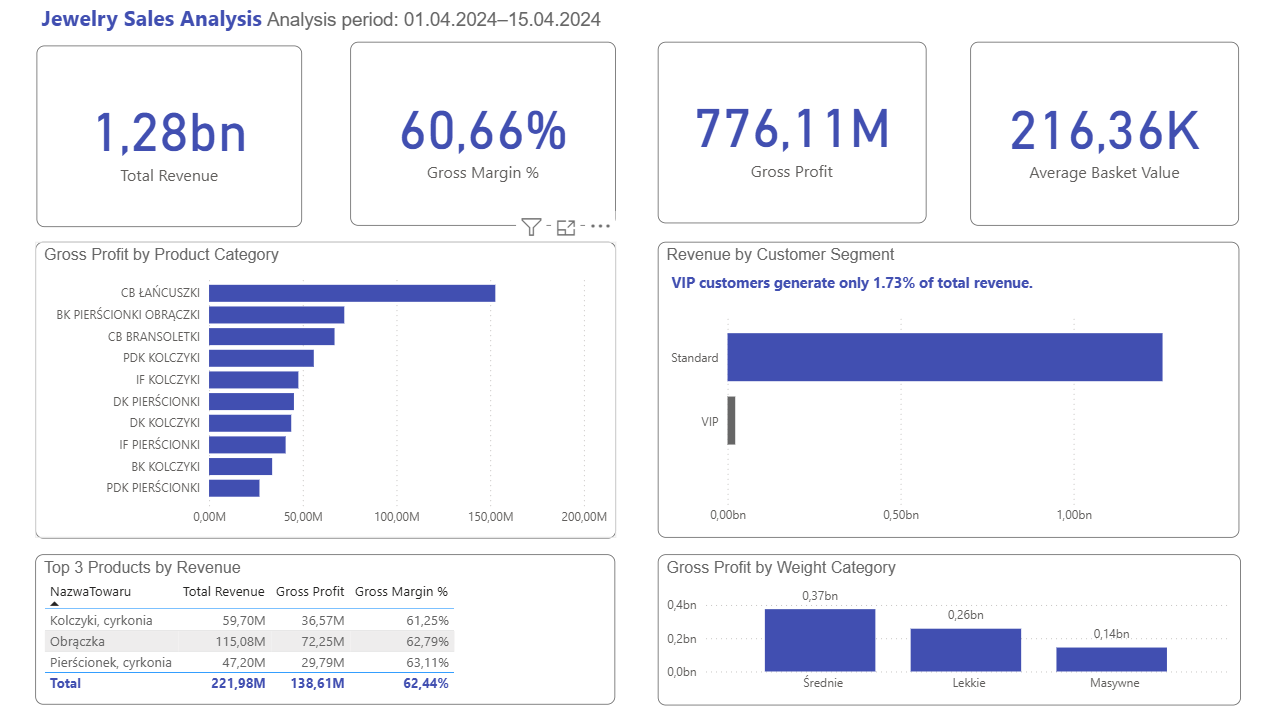

The page's visual inventory and layout, read from the dashboard file:
{"tool":"powerbi","page":{"name":"Page 1","canvas":[1280,720],"ordinal":0},"visuals":[{"type":"textbox","box":[37.1,0,692.9,47.1],"z":0},{"type":"card","fields":{"Values":["Measures (2).Przychód Całkowity"]},"box":[37.1,47.1,265.7,181.4],"z":1000},{"type":"card","fields":{"Values":["Measures (2).Marża %"]},"box":[351.4,44.3,265.7,184.3],"z":2000},{"type":"card","fields":{"Values":["Measures (2).Zysk Brutto"]},"box":[658.6,44.3,268.6,181.4],"z":3000},{"type":"clusteredBarChart","title":"Gross Profit by Product Category","fields":{"Y":["Measures (2).Zysk Brutto"],"Category":["DimProdukty_202609021808.GrupaTowarowa"]},"box":[36.7,243.3,580.8,297.1],"z":4000},{"type":"clusteredBarChart","title":"Revenue by Customer Segment","fields":{"Category":["FactSprzedaz_202609021808.SegmentKlienta"],"Y":["Measures (2).Przychód Całkowity"]},"box":[658.6,244.3,581.4,295.7],"z":5000},{"type":"clusteredColumnChart","title":"Gross Profit by Weight Category","fields":{"Category":["FactSprzedaz_202609021808.KategoriaWagowa"],"Y":["Measures (2).Zysk Brutto"]},"box":[658.6,555.7,582.9,151.4],"z":6000},{"type":"tableEx","title":"Top 3 Products by Revenue","fields":{"Values":["DimProdukty_202609021808.NazwaTowaru","Measures (2).Przychód Całkowity","Measures (2).Zysk Brutto","Measures (2).Marża %"]},"box":[36.7,556.4,579.6,150.4],"z":7000},{"type":"card","fields":{"Values":["Measures (2).Średnia Wartość Koszyka"]},"box":[971.4,44.3,268.6,184.3],"z":8000},{"type":"textbox","box":[667.7,269,467.1,50.1],"z":9000}]}

Visuals, with their boxes in screenshot pixels (x1, y1, x2, y2), scaled from the page's 1280x720 canvas onto the 1277x717 screenshot:
textbox: Rect(37, 0, 728, 47)
card - Measures (2).Przychód Całkowity: Rect(37, 47, 302, 228)
card - Measures (2).Marża %: Rect(351, 44, 616, 228)
card - Measures (2).Zysk Brutto: Rect(657, 44, 925, 225)
"Gross Profit by Product Category" clusteredBarChart: Rect(37, 242, 616, 538)
"Revenue by Customer Segment" clusteredBarChart: Rect(657, 243, 1237, 538)
"Gross Profit by Weight Category" clusteredColumnChart: Rect(657, 553, 1239, 704)
"Top 3 Products by Revenue" tableEx: Rect(37, 554, 615, 704)
card - Measures (2).Średnia Wartość Koszyka: Rect(969, 44, 1237, 228)
textbox: Rect(666, 268, 1132, 318)
